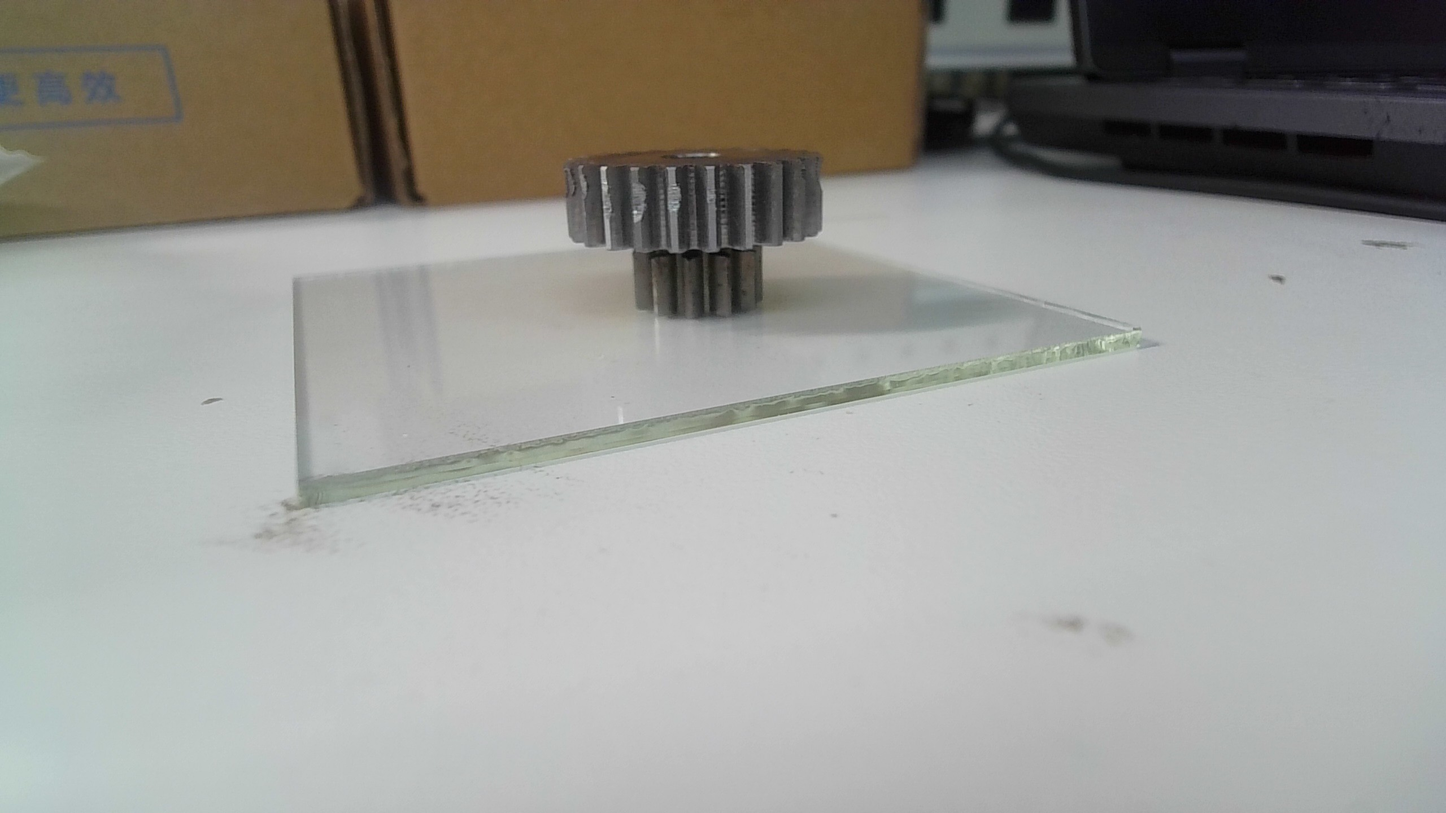gear: (561, 142, 827, 323)
